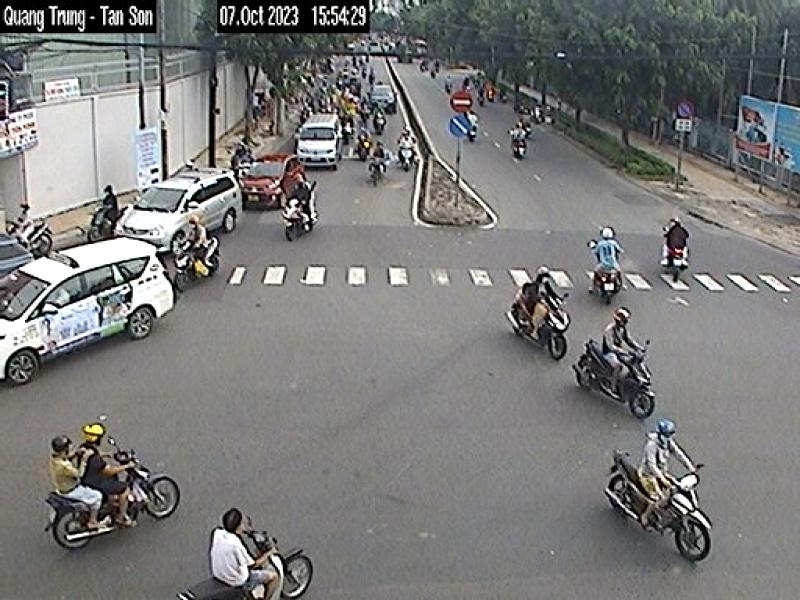car: (0, 239, 175, 389), (117, 174, 243, 251), (297, 112, 342, 170), (1, 235, 36, 282)
motorcycle: (601, 418, 716, 564), (504, 295, 573, 365), (157, 242, 224, 286), (281, 202, 310, 242), (600, 265, 623, 304), (512, 137, 528, 160)
